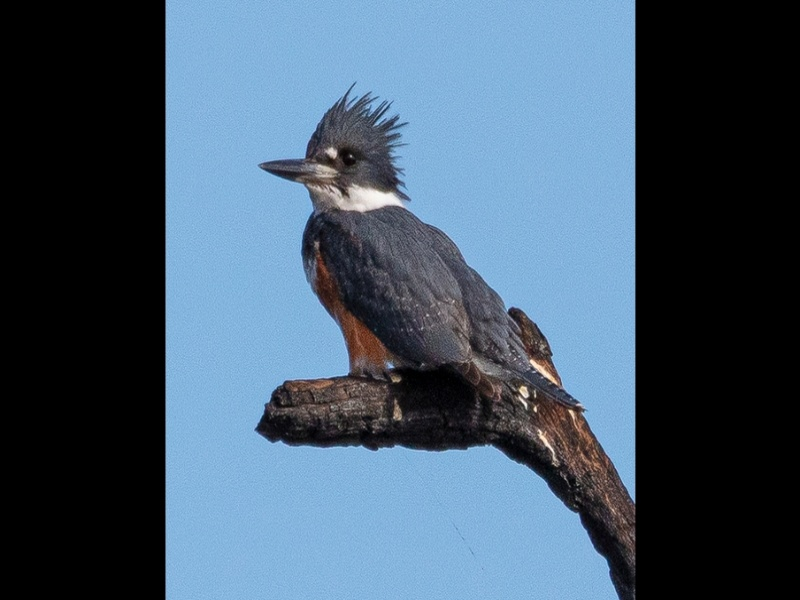kingfisher: (251, 79, 586, 433)
